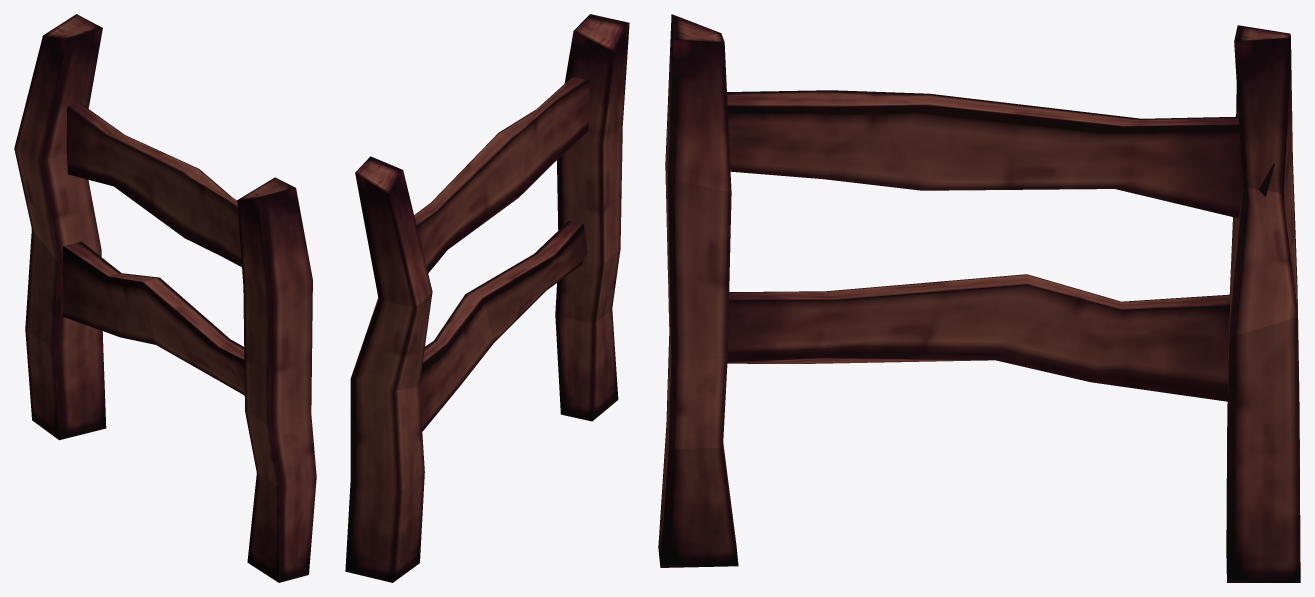
File: fence2.glb
3 renders of one model, left to right at view 1: azimuth 30°, elevation 25°; view 2: azimuth 150°, elevation 25°; view 3: azimuth 270°, elevation 25°, orthographic. The views are drawn at different scales.
Parts seen in each view (by area): view 1: Cube.006, Cube.007, Cube.001, Cube.002; view 2: Cube.007, Cube.006, Cube.001, Cube.002; view 3: Cube.001, Cube.002, Cube.007, Cube.006.
Part boxes in pixels (bbox=[...]): Cube.006: bbox=[237, 177, 316, 582]; Cube.007: bbox=[14, 14, 106, 440]; Cube.001: bbox=[66, 103, 241, 266]; Cube.002: bbox=[63, 241, 244, 395]; Cube.007: bbox=[345, 156, 432, 582]; Cube.006: bbox=[555, 14, 629, 421]; Cube.001: bbox=[414, 77, 589, 273]; Cube.002: bbox=[419, 220, 587, 431]; Cube.001: bbox=[727, 90, 1274, 218]; Cube.002: bbox=[727, 274, 1229, 401]; Cube.007: bbox=[1226, 25, 1300, 582]; Cube.006: bbox=[658, 14, 738, 567].
Bounding box in the file's own units: 0.0977 × 0.5147 × 0.5539.
4 materials, 4 textured.
